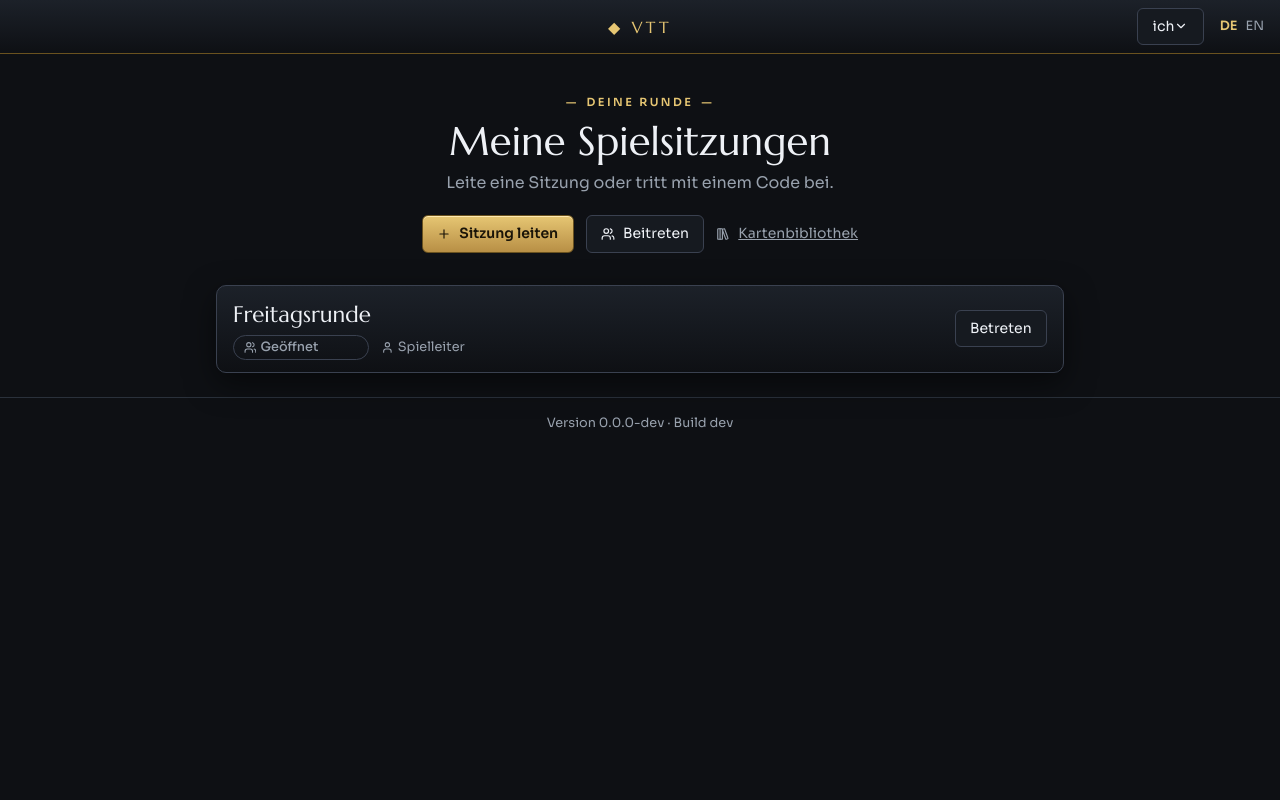
Sitzungscode › Kopieren bei aufgedecktem Code lässt den Klartext stehen
The image size is (1280, 800).
Expected: the heading "Freitagsrunde" is shown, [233,300,371,328]
What coordinates should you click on to do the following:
click the button "Betreten"
I would click on:
 (1001, 328)
Its box is [955,310,1047,347].
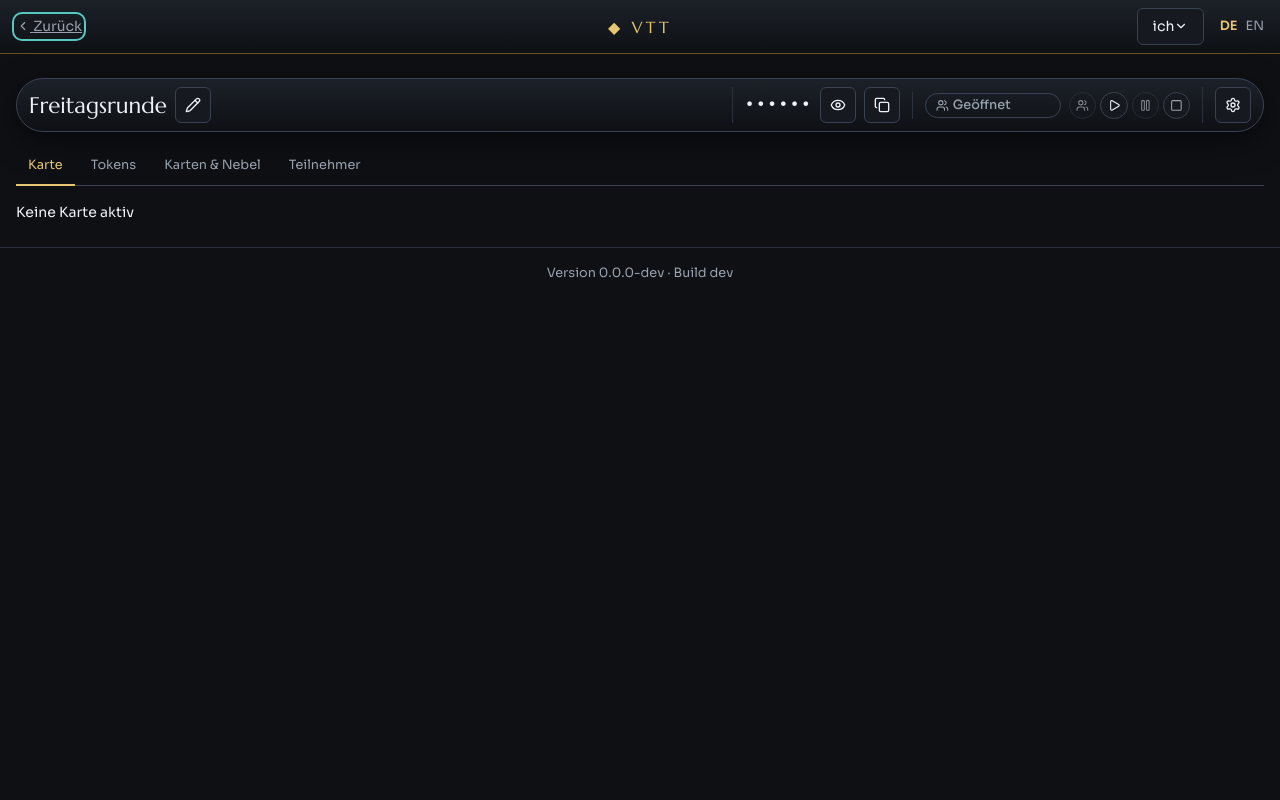
What coordinates should you click on to do the following:
click the button named "Sitzungscode anzeigen"
I would click on:
 (838, 105)
Its box is [820,87,856,123].
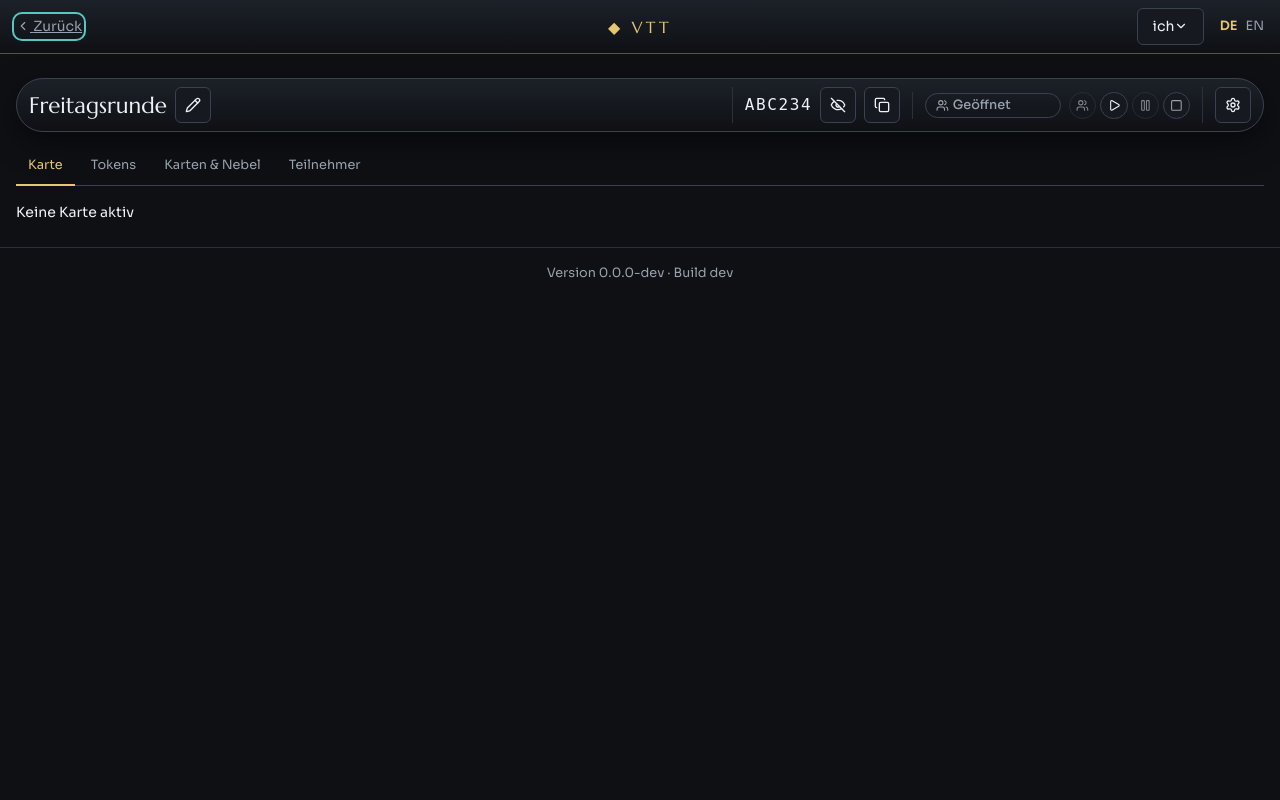
Expected: the text named "Sitzungscode" reads "ABC234", [745,95,812,114]
What coordinates should you click on to do the following:
click the button named "Sitzungscode kopieren"
I would click on:
 (882, 105)
Its box is [864,87,900,123].
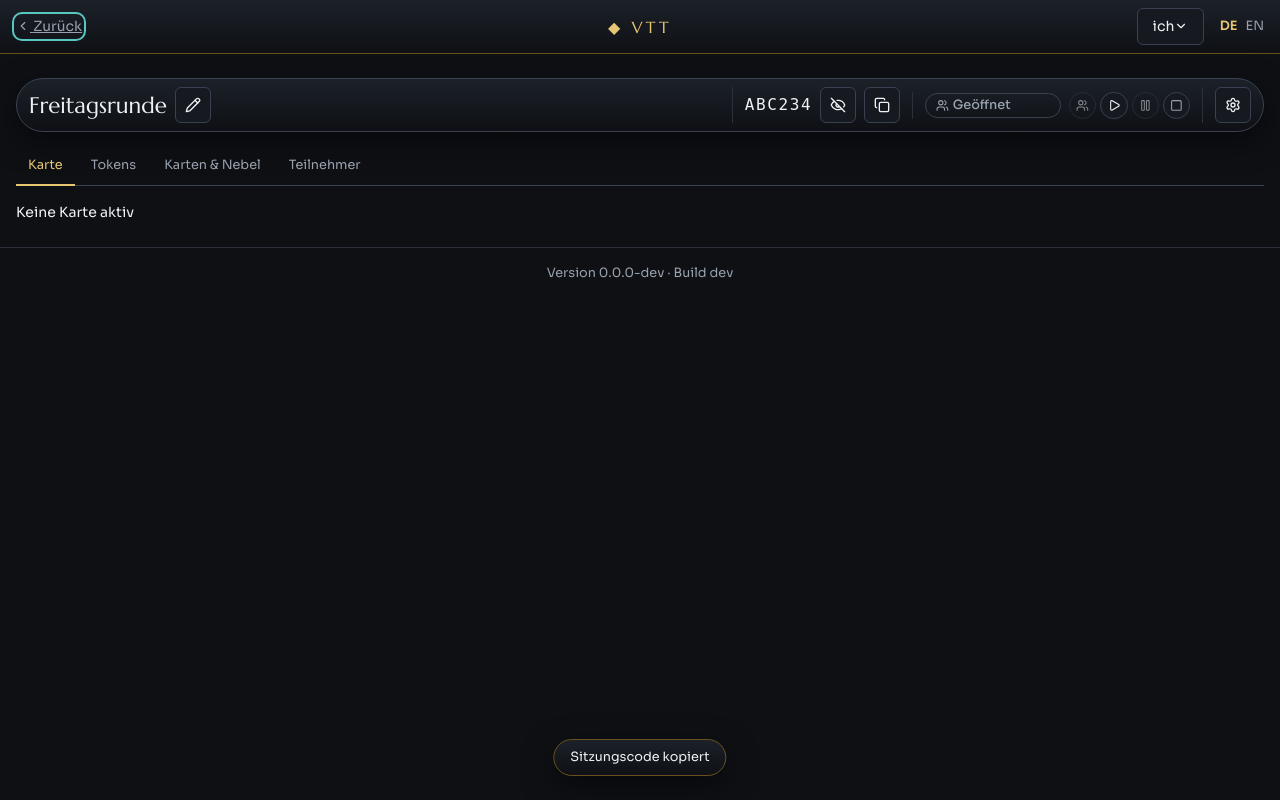
Expected: the text named "Sitzungscode" reads "ABC234", [745,95,812,114]
Expected: the text "Sitzungscode kopiert" is shown, [553,739,727,776]
